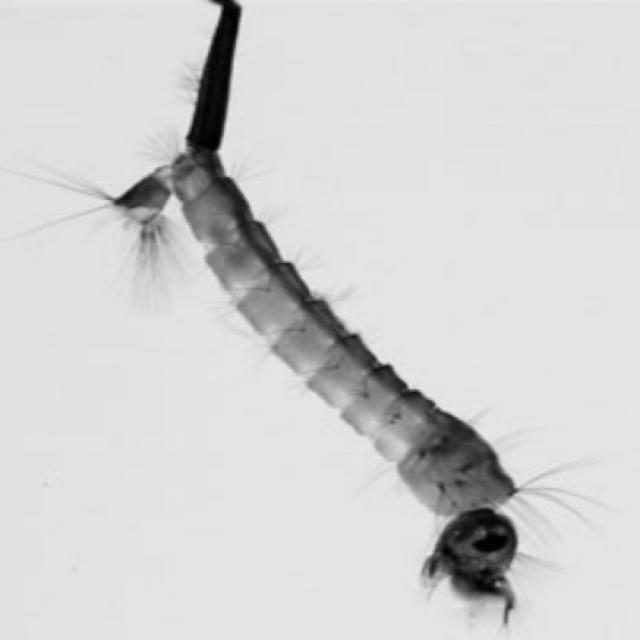larvas: (127, 5, 515, 598)
